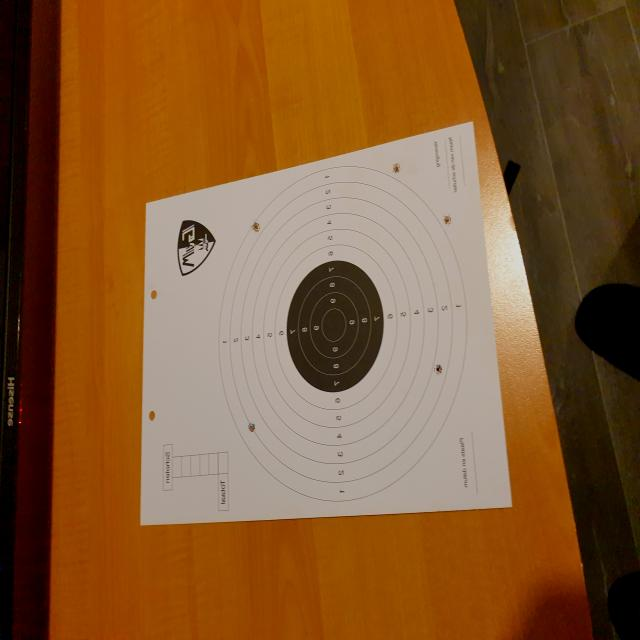0: (443, 214, 452, 226), (393, 163, 401, 174)
1: (251, 220, 260, 232)
2: (434, 364, 443, 376), (249, 424, 255, 434)
Target: (218, 167, 468, 502)
black_contour: (286, 260, 384, 392)
